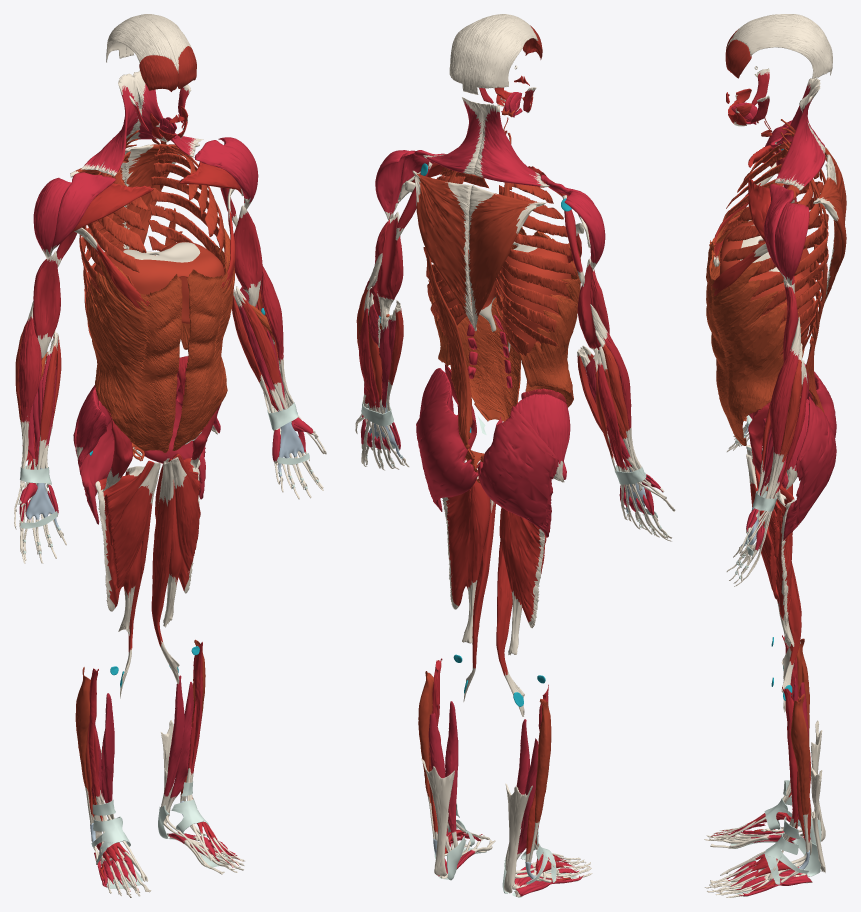
File: muscular-1.glb
The picture shows the model from 3 angles, left to right: view 1: azimuth 30°, elevation 25°; view 2: azimuth 150°, elevation 25°; view 3: azimuth 270°, elevation 25°; orthographic projection. The views are drawn at different scales.
Parts seen in each view (by area): view 1: External abdominal oblique muscle.r, External abdominal oblique muscle.l, External intercostal muscles.l, Diaphragm, External intercostal muscles.r, Gracilis muscle.l, Adductor longus.r, Adductor magnus.r, Brachialis muscle.r, Epicranial aponeurosis.r, Ascending part of trapezius muscle.r, Brachioradialis muscle.r (+37 smaller); view 2: Gluteus maximus muscle.r, External intercostal muscles.r, Descending part of trapezius muscle.l, Descending part of trapezius muscle.r, External abdominal oblique muscle.l, Adductor magnus.l, Gluteus maximus muscle.l, Adductor magnus.r, External abdominal oblique muscle.r, Diaphragm, Epicranial aponeurosis.r, Ascending part of trapezius muscle.r (+29 smaller); view 3: External abdominal oblique muscle.l, External intercostal muscles.l, Gluteus maximus muscle.l, Epicranial aponeurosis.l, Ascending part of trapezius muscle.l, Brachioradialis muscle.l, Acromial part of deltoid muscle.l, Adductor magnus.l, Diaphragm, External intercostal muscles.r, Fibularis longus muscle.l, Descending part of trapezius muscle.l (+38 smaller).
Part boxes in pixels (bbox=[...]): External abdominal oblique muscle.r: bbox=[86, 257, 182, 452]; External abdominal oblique muscle.l: bbox=[172, 229, 234, 450]; External intercostal muscles.l: bbox=[148, 144, 226, 274]; Diaphragm: bbox=[91, 241, 224, 323]; External intercostal muscles.r: bbox=[79, 151, 149, 338]; Gracilis muscle.l: bbox=[151, 458, 179, 684]; Adductor longus.r: bbox=[111, 462, 160, 588]; Adductor magnus.r: bbox=[95, 466, 144, 635]; Brachialis muscle.r: bbox=[33, 251, 60, 359]; Epicranial aponeurosis.r: bbox=[106, 15, 176, 64]; Ascending part of trapezius muscle.r: bbox=[80, 73, 143, 176]; Brachioradialis muscle.r: bbox=[19, 300, 41, 468]; Gluteus maximus muscle.r: bbox=[478, 406, 558, 537]; External intercostal muscles.r: bbox=[495, 183, 576, 356]; Descending part of trapezius muscle.l: bbox=[412, 170, 476, 330]; Descending part of trapezius muscle.r: bbox=[468, 185, 545, 330]; External abdominal oblique muscle.l: bbox=[430, 227, 526, 421]; Adductor magnus.l: bbox=[442, 468, 490, 644]; Gluteus maximus muscle.l: bbox=[416, 390, 478, 511]; Adductor magnus.r: bbox=[499, 507, 545, 655]; External abdominal oblique muscle.r: bbox=[518, 231, 580, 407]; Diaphragm: bbox=[434, 235, 571, 354]; Epicranial aponeurosis.r: bbox=[469, 15, 538, 94]; Ascending part of trapezius muscle.r: bbox=[473, 103, 549, 187]; External abdominal oblique muscle.l: bbox=[706, 250, 804, 445]; External intercostal muscles.l: bbox=[723, 179, 828, 354]; Gluteus maximus muscle.l: bbox=[783, 396, 836, 540]; Epicranial aponeurosis.l: bbox=[730, 18, 832, 78]; Ascending part of trapezius muscle.l: bbox=[775, 86, 825, 190]; Brachioradialis muscle.l: bbox=[765, 317, 800, 498]; Acromial part of deltoid muscle.l: bbox=[774, 202, 809, 285]; Adductor magnus.l: bbox=[769, 484, 794, 647]; Diaphragm: bbox=[719, 221, 811, 345]; External intercostal muscles.r: bbox=[721, 142, 828, 285]; Fibularis longus muscle.l: bbox=[763, 693, 809, 878]; Descending part of trapezius muscle.l: bbox=[813, 164, 846, 302].
Size of the model in its own units: 0.66 by 1.7 by 0.2585.
